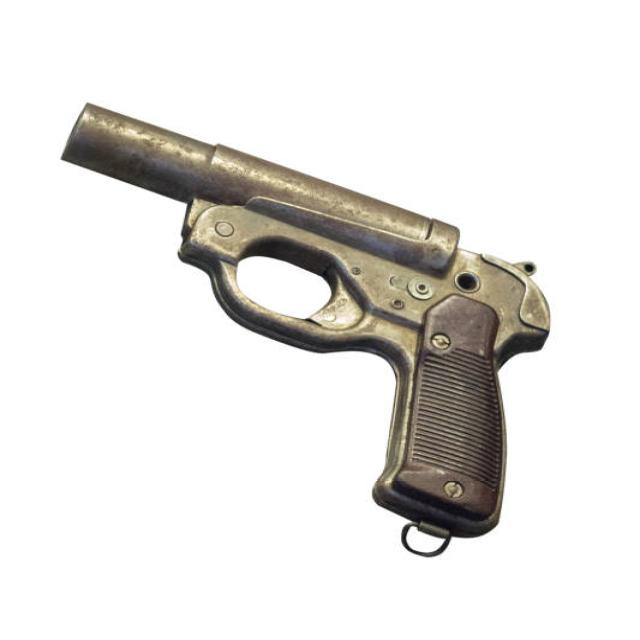pistol: (54, 97, 555, 565)
